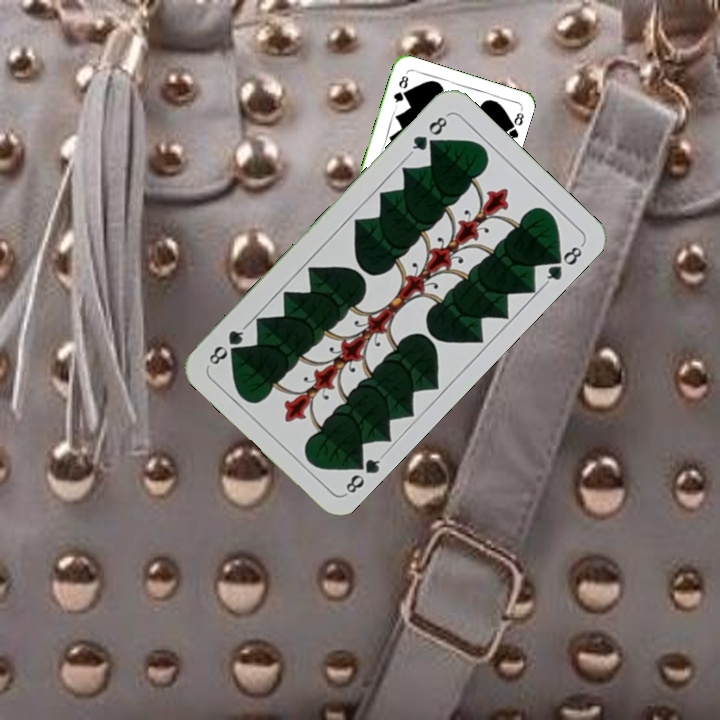G8: (340, 451, 387, 498), (405, 110, 451, 158), (390, 71, 411, 109)
